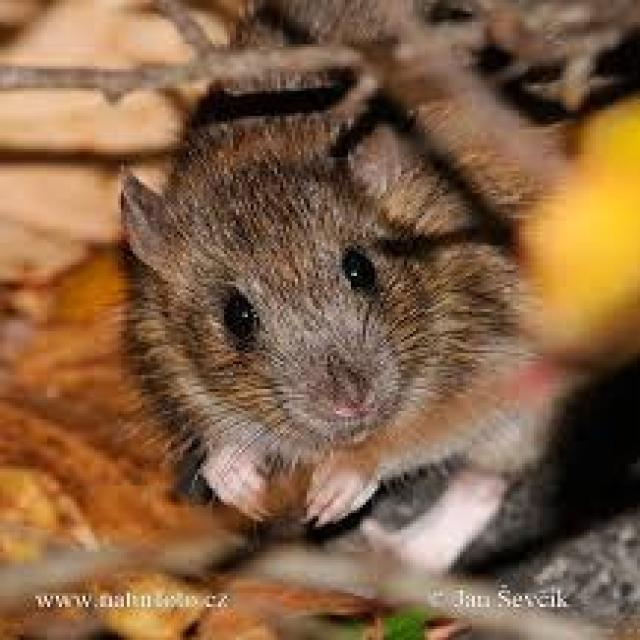Rat: (123, 3, 550, 563)
